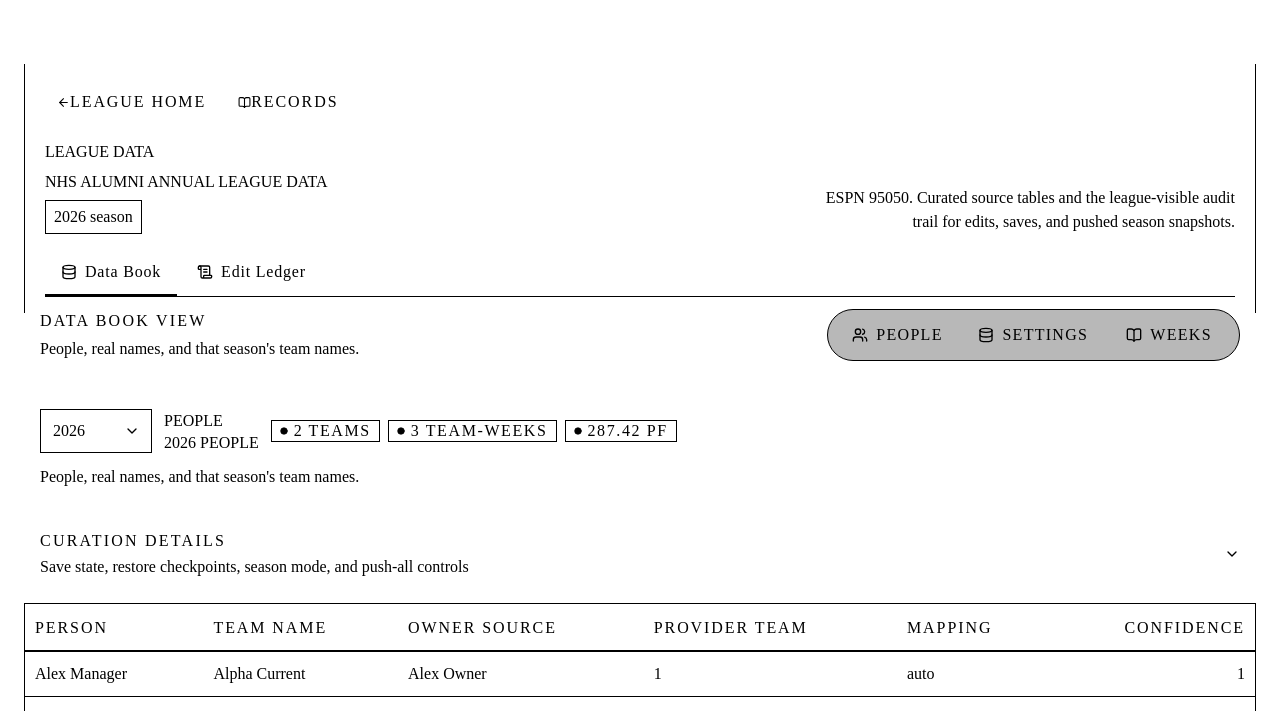
Test case: curation indicators show unsaved, saved-unpushed, and pushed state
This screenshot has width=1280, height=711.
Click the heading that starts with "Curation details".
click(133, 540)  # box [24,521,1256,587]
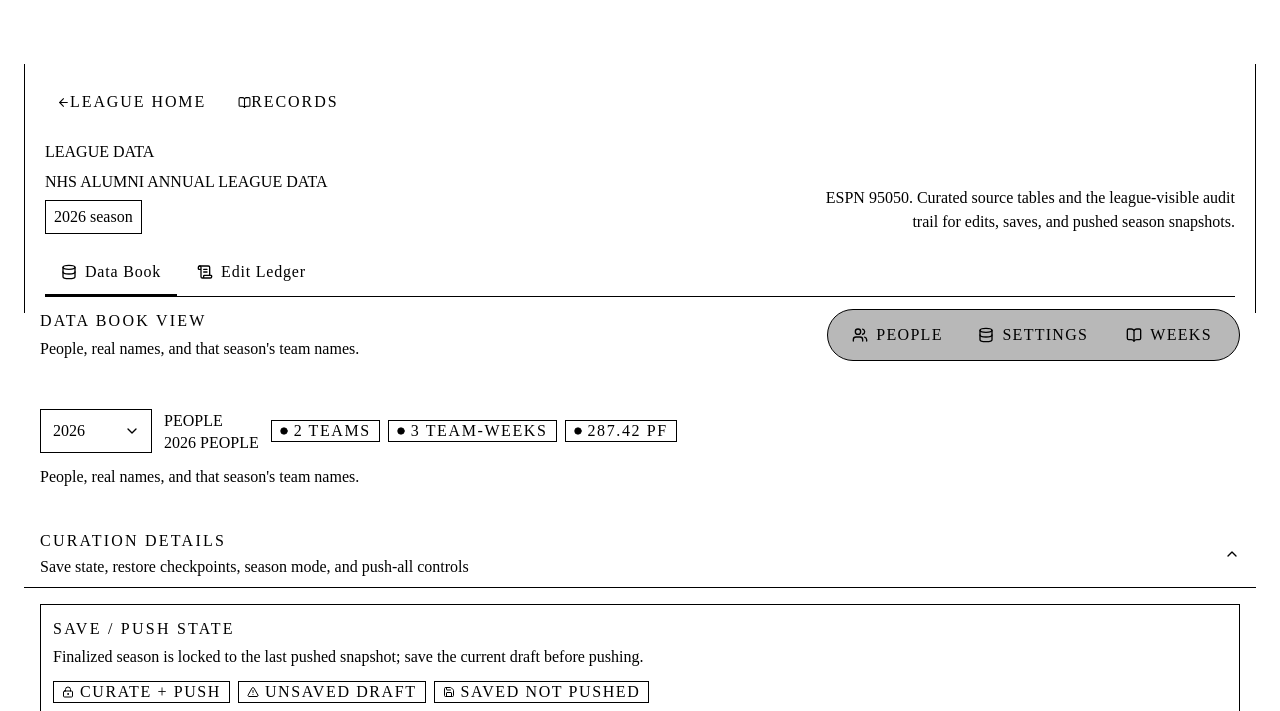
Expected: the text "Unsaved draft" is shown, [265,684,417,700]
Expected: the text "Saved not pushed" is shown, [461,684,640,700]
Select "2025" in the dropdown named "Data Book season" at (96, 431), box [40,409,152,453]
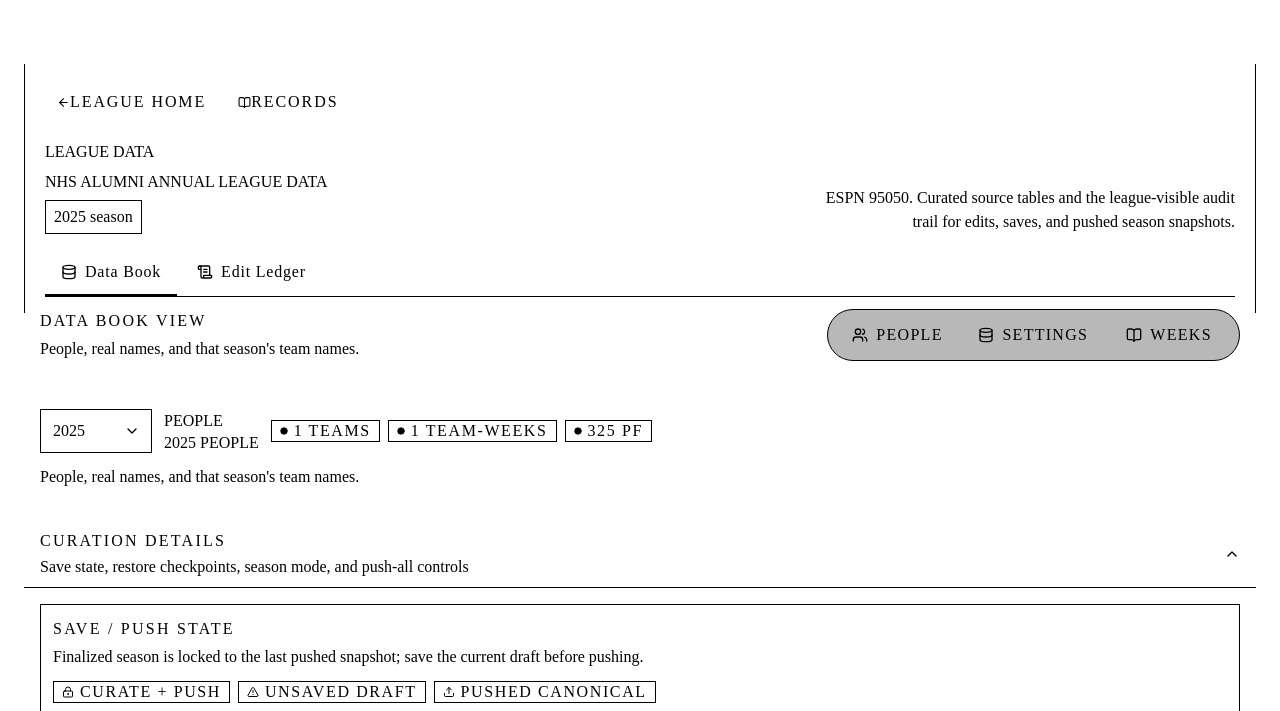
Expected: the text "Pushed canonical" is shown, [461,684,647,700]
